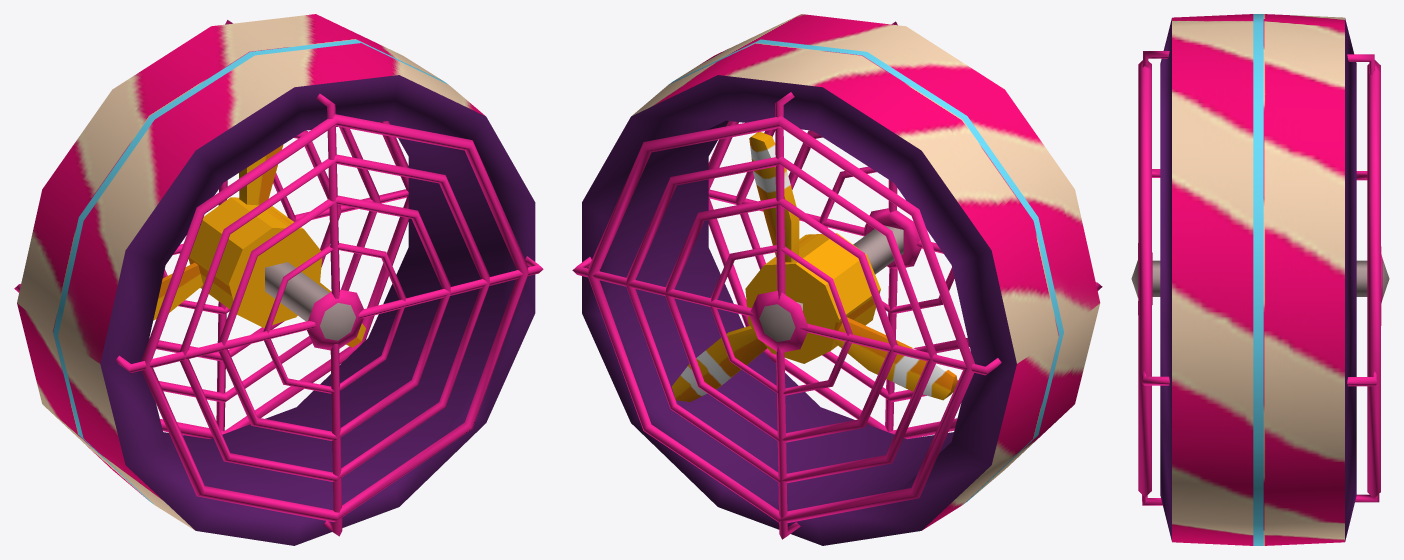
File: OBS0110015.fbx
3 renders of one model, left to right at view 1: azimuth 30°, elevation 25°; view 2: azimuth 150°, elevation 25°; view 3: azimuth 270°, elevation 25°, orthographic. The views are drawn at different scales.
Visible parts, largest first — view 1: smOBS0110015; view 2: smOBS0110015; view 3: smOBS0110015.
Boxes of the visible parts, x1,y1,x2,y2 form: smOBS0110015: (14,14,543,545); smOBS0110015: (572,14,1102,545); smOBS0110015: (1131,14,1389,545).
Size of the model in its own units: 332 by 334 by 162.
Materials: 1 (1 with a texture image).
